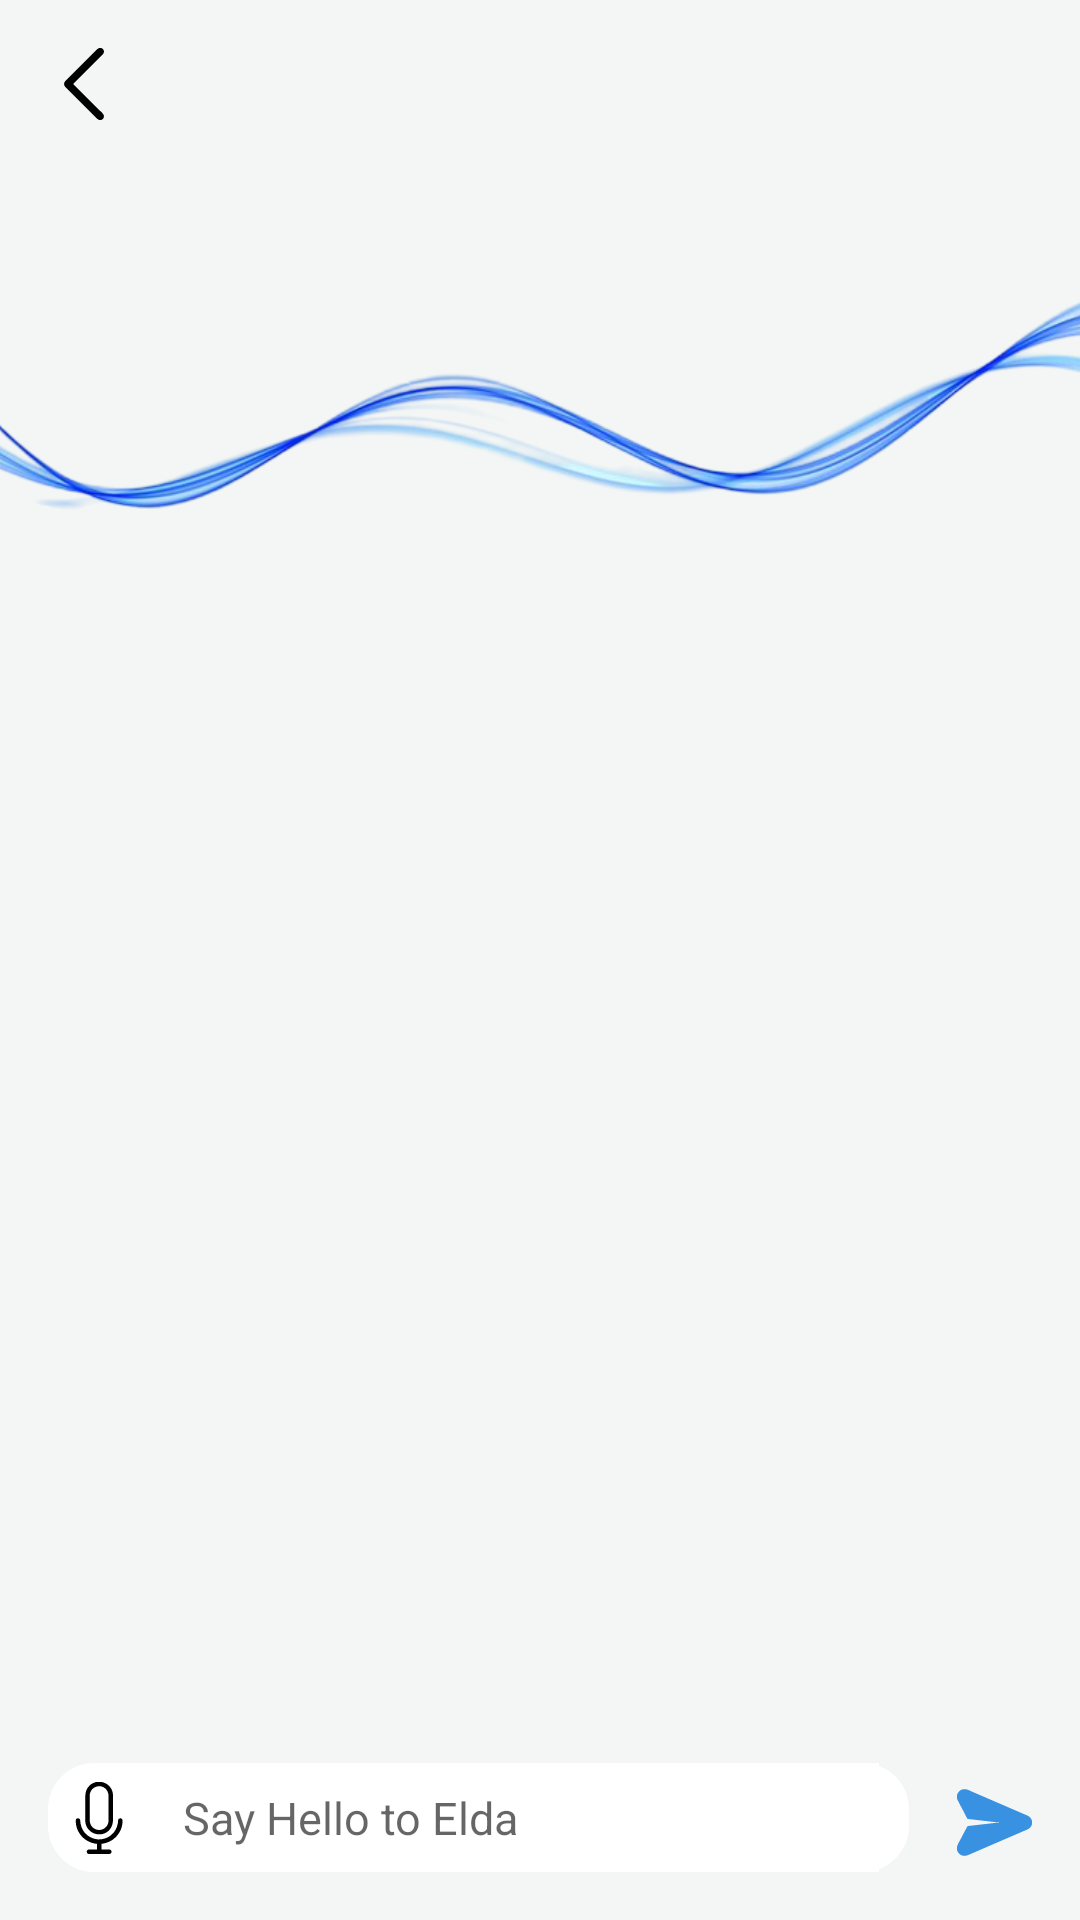

Named icons in this screenshot (1080 × 1920) and their centers, (x=x, y=y):
back: (x=84, y=84)
microphone: (x=99, y=1818)
send: (x=994, y=1822)
